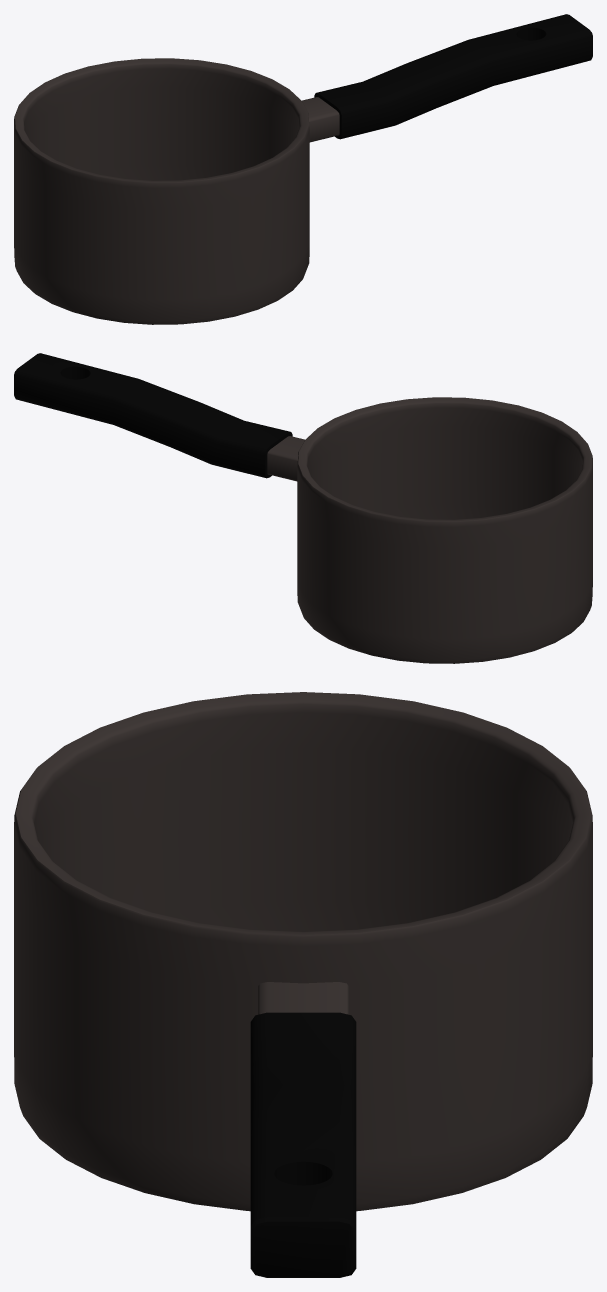
File: HP_sauce_pot1.glb
3 views of the same model, one above another, from view 1: azimuth 30°, elevation 25°; view 2: azimuth 150°, elevation 25°; view 3: azimuth 270°, elevation 25° (orthographic). The views are drawn at different scales.
Parts seen in each view (by area): view 1: HP_sauce_pot1.001; view 2: HP_sauce_pot1.001; view 3: HP_sauce_pot1.001.
Part boxes in pixels (x1=…): HP_sauce_pot1.001: x1=14, y1=14, x2=592, y2=324; HP_sauce_pot1.001: x1=14, y1=353, x2=592, y2=663; HP_sauce_pot1.001: x1=14, y1=692, x2=592, y2=1277.
Size of the model in its own units: 0.5581 by 0.1393 by 0.2619.
1 material, 1 textured.
